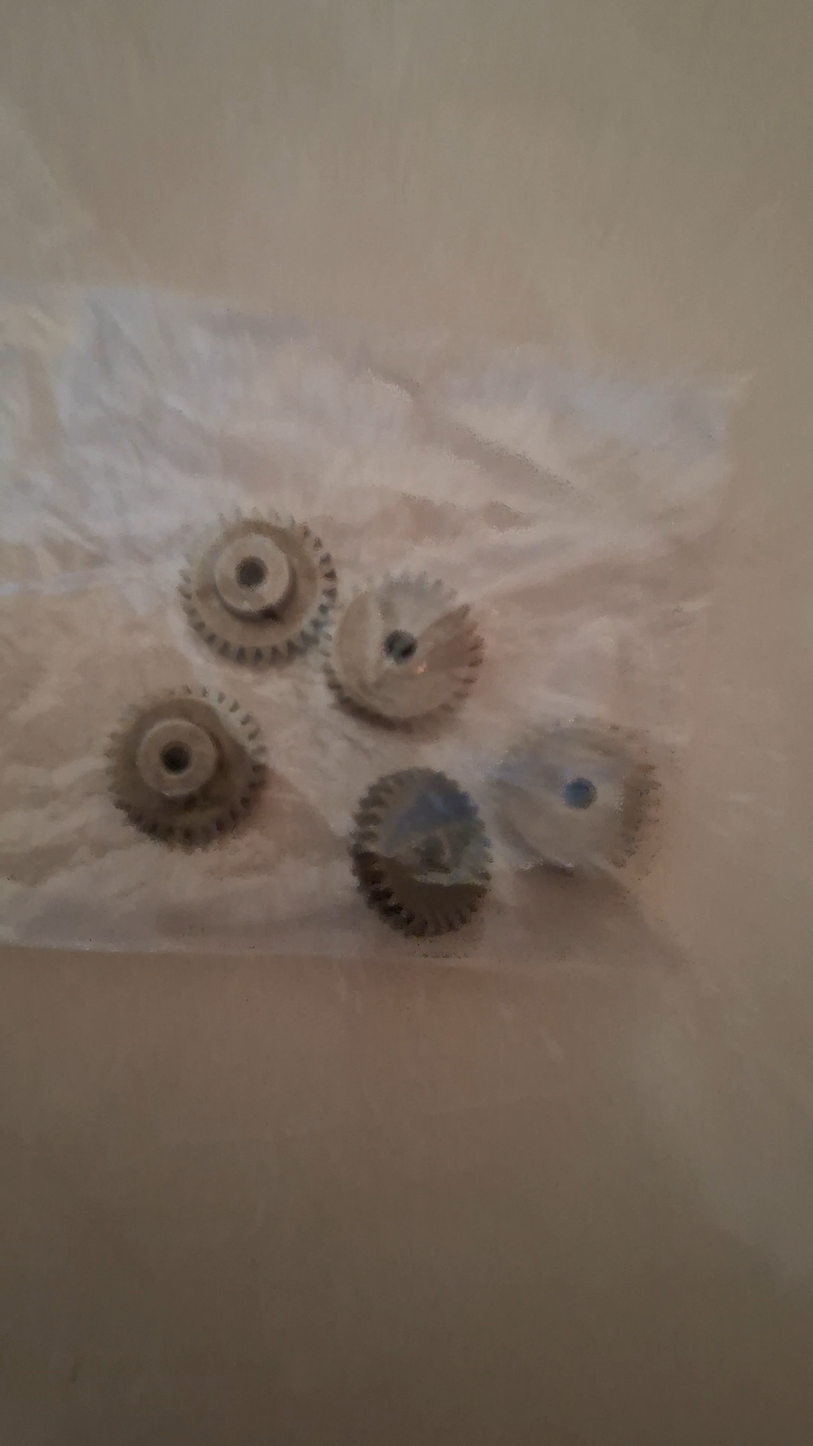spur gear: (108, 687, 265, 846), (496, 722, 656, 870), (326, 574, 483, 724), (351, 768, 490, 936), (180, 514, 336, 663)
